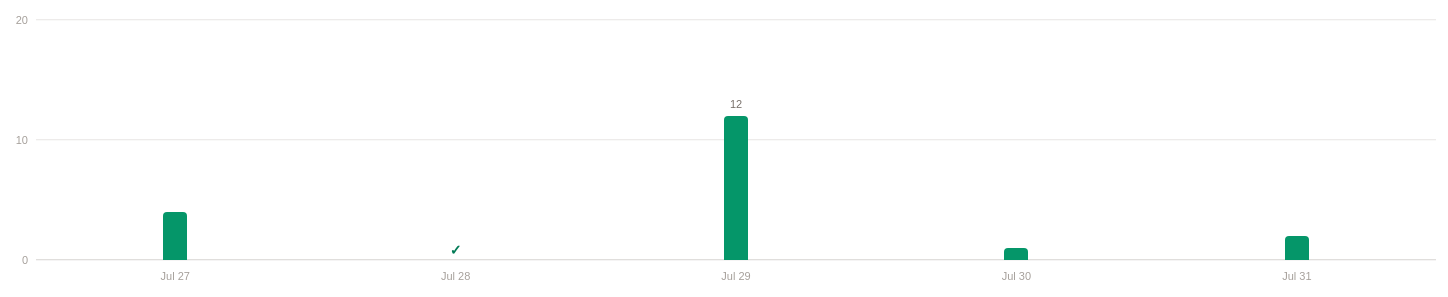
Test: ShortsChart › renders a day with nothing as a hoverable zero rather than a gap
The width and height of the screenshot is (1448, 297).
Hover over the button "✓" at (456, 250), box [316,20,595,260]
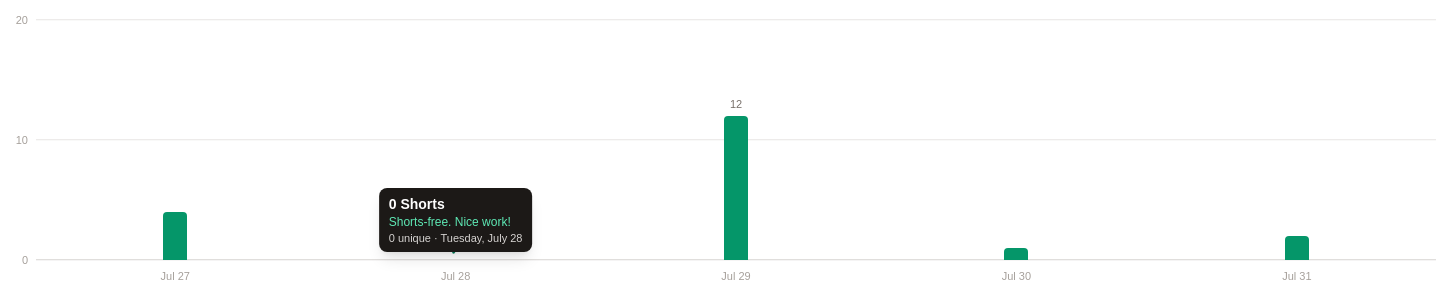
Check: the text "0 Shorts" is shown, box [389,196,445,212]
